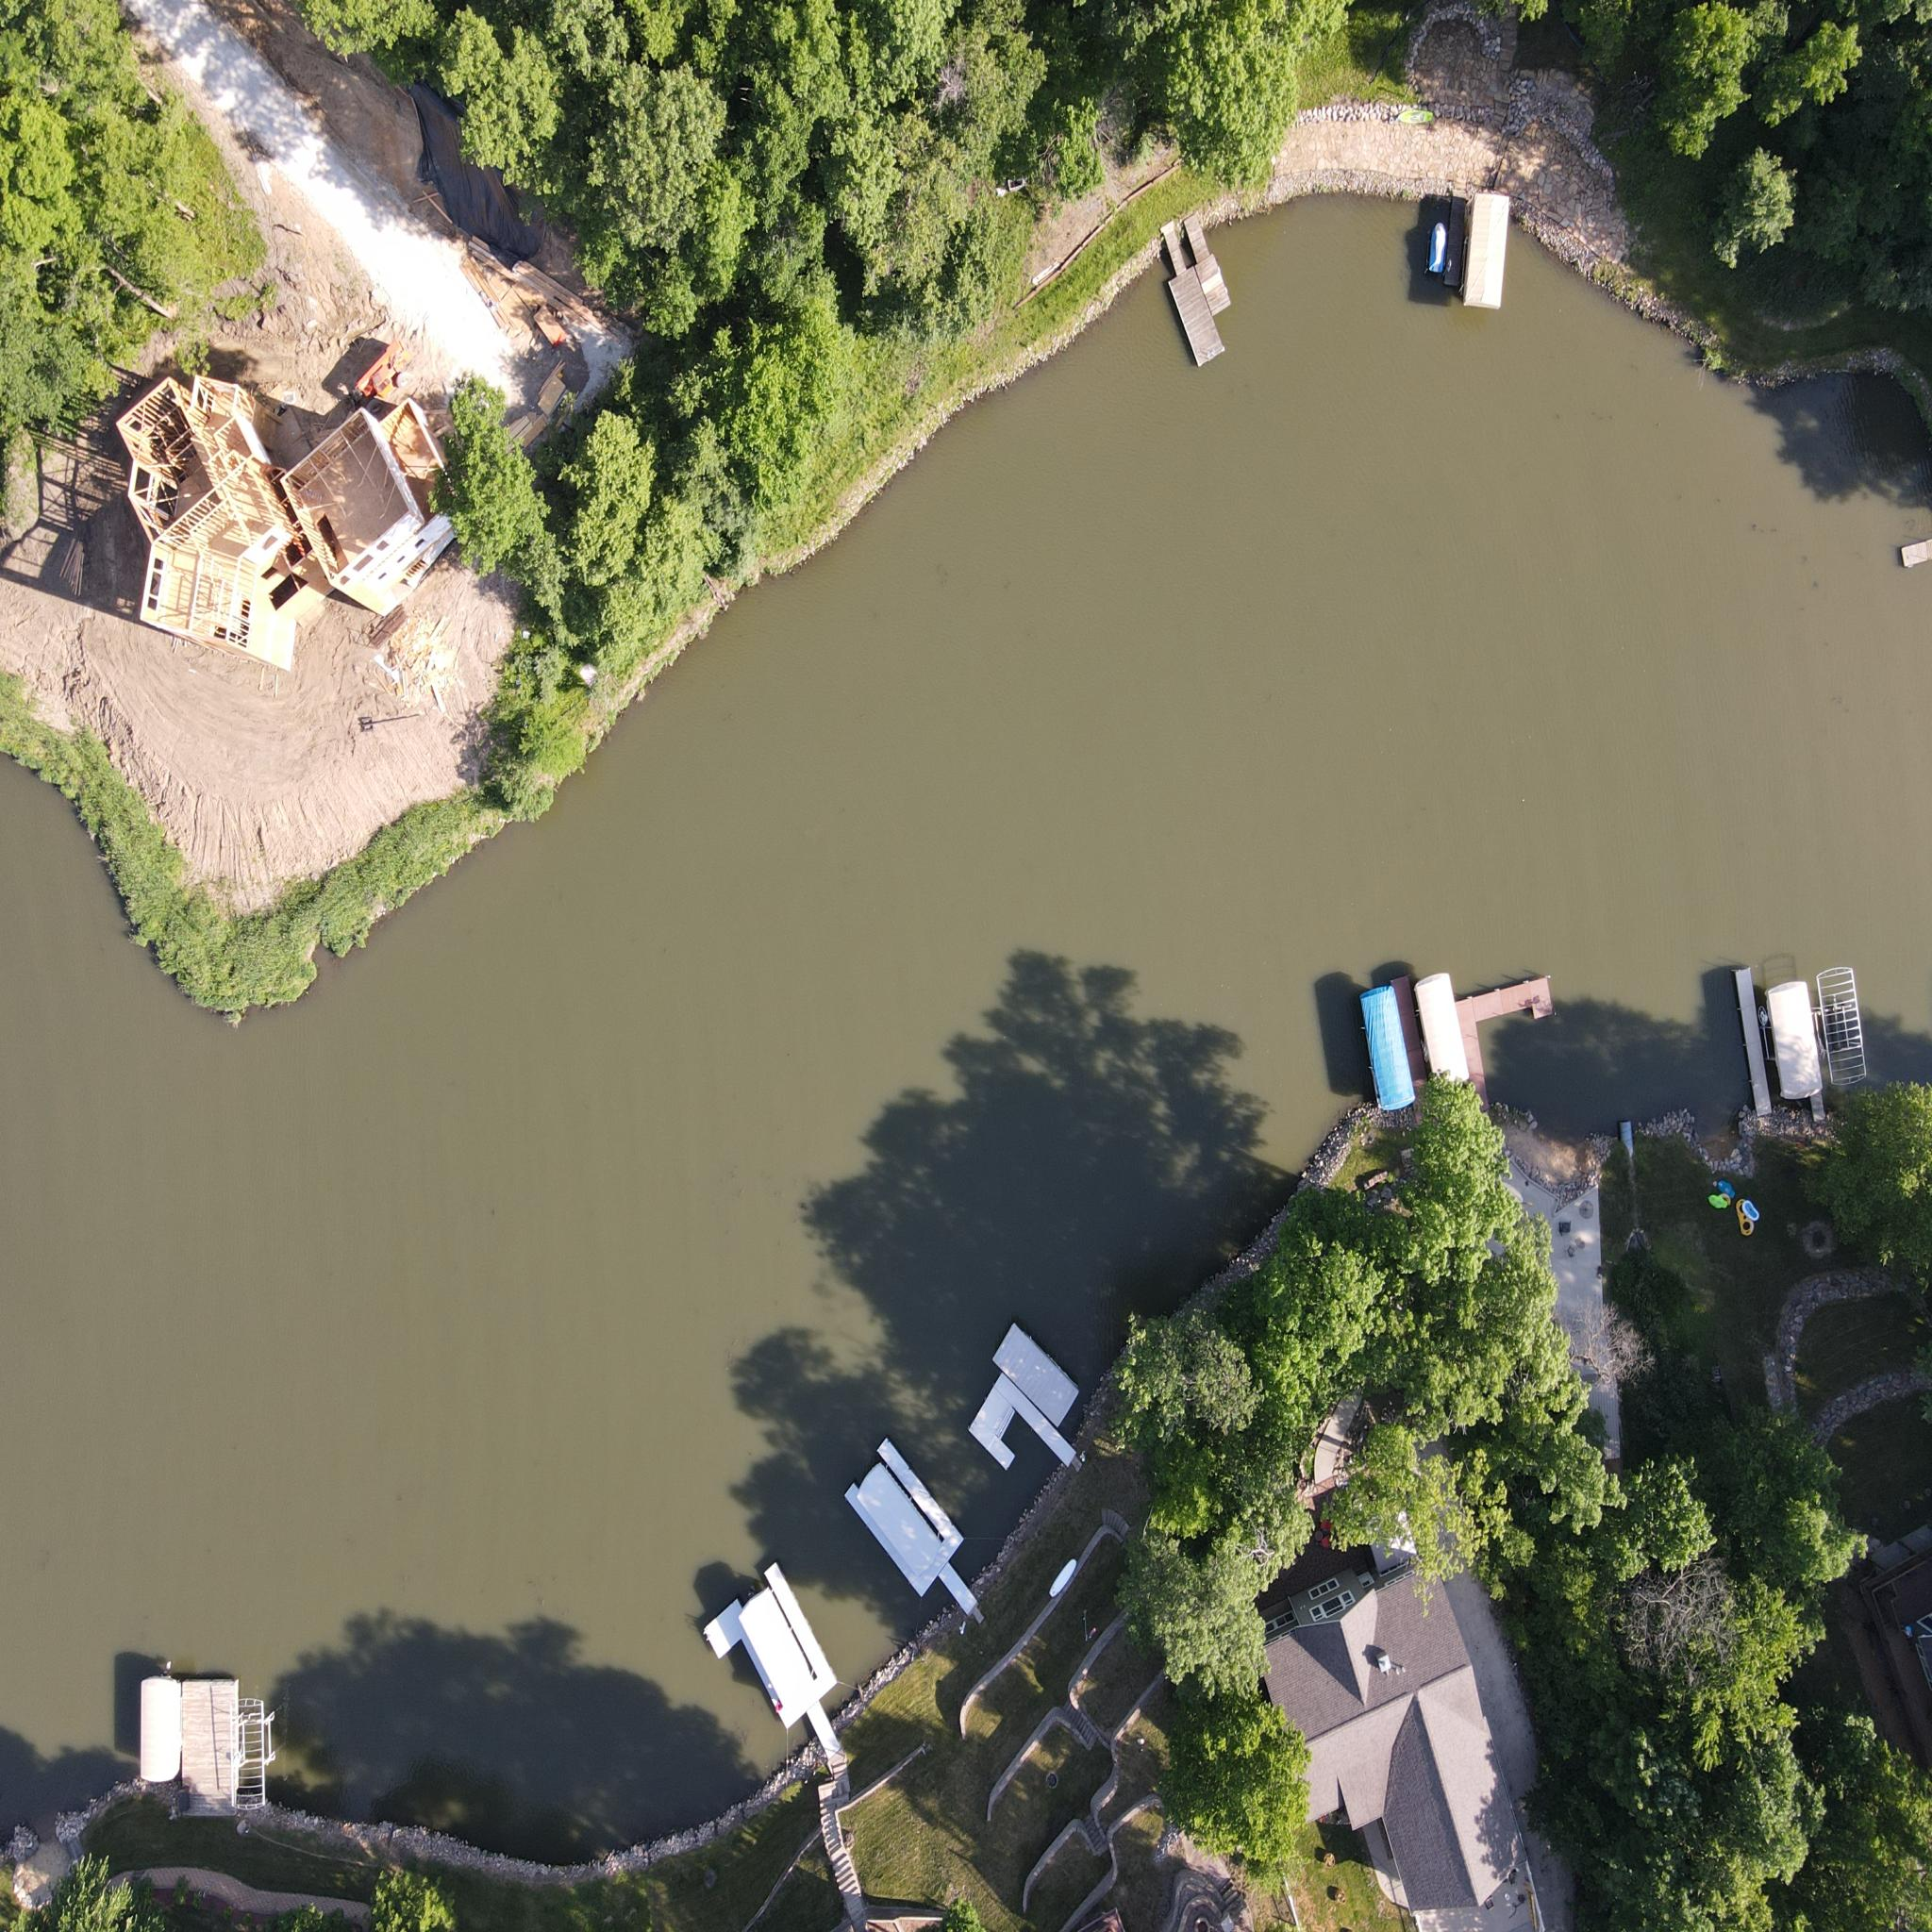dock: (697, 1559, 833, 1753), (840, 1438, 978, 1622), (1453, 971, 1562, 1118), (962, 1373, 1076, 1488), (1161, 219, 1228, 380), (182, 1681, 239, 1803), (1389, 975, 1435, 1122), (1732, 964, 1771, 1120), (1891, 527, 1932, 573), (1447, 182, 1465, 287)
jetski: (1428, 218, 1447, 280)
lift: (856, 1460, 941, 1580), (740, 1585, 812, 1713), (993, 1318, 1077, 1426), (1359, 980, 1415, 1109), (1415, 970, 1474, 1092), (1767, 978, 1822, 1104), (1815, 968, 1870, 1090), (1465, 189, 1509, 317), (143, 1668, 182, 1792)
